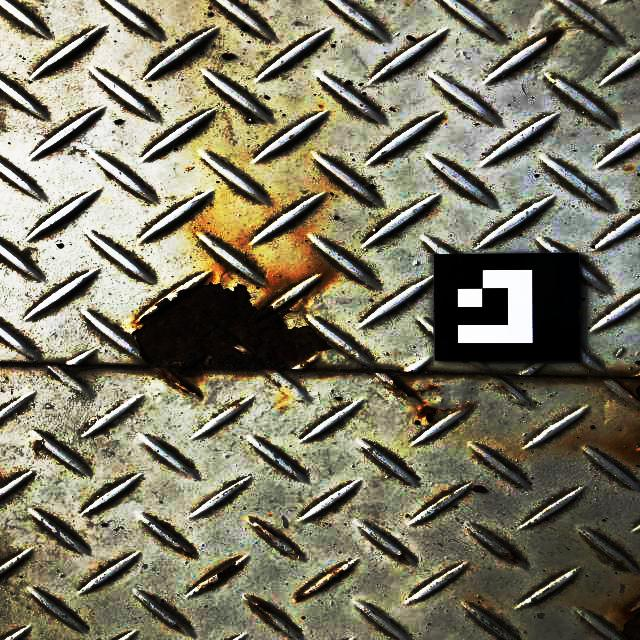Corrosion: (132, 276, 332, 398), (206, 565, 238, 589), (621, 613, 640, 640), (394, 380, 413, 397), (420, 408, 440, 423), (547, 29, 563, 43), (502, 554, 519, 565), (258, 603, 272, 613), (294, 594, 311, 601), (634, 384, 640, 403), (397, 554, 407, 562), (182, 550, 193, 557)
